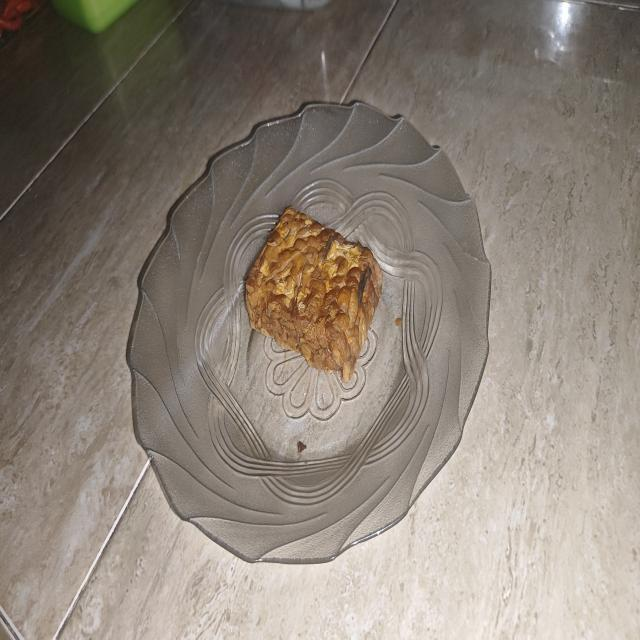tempe_goreng: (245, 208, 382, 382)
